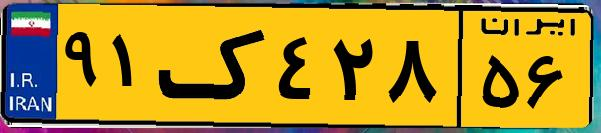1: (110, 28, 158, 98)
2: (330, 28, 385, 110)
4: (270, 28, 330, 110)
5: (475, 38, 525, 113)
6: (525, 38, 570, 115)
8: (385, 28, 445, 110)
9: (57, 26, 110, 100)
ک: (158, 12, 270, 120)
